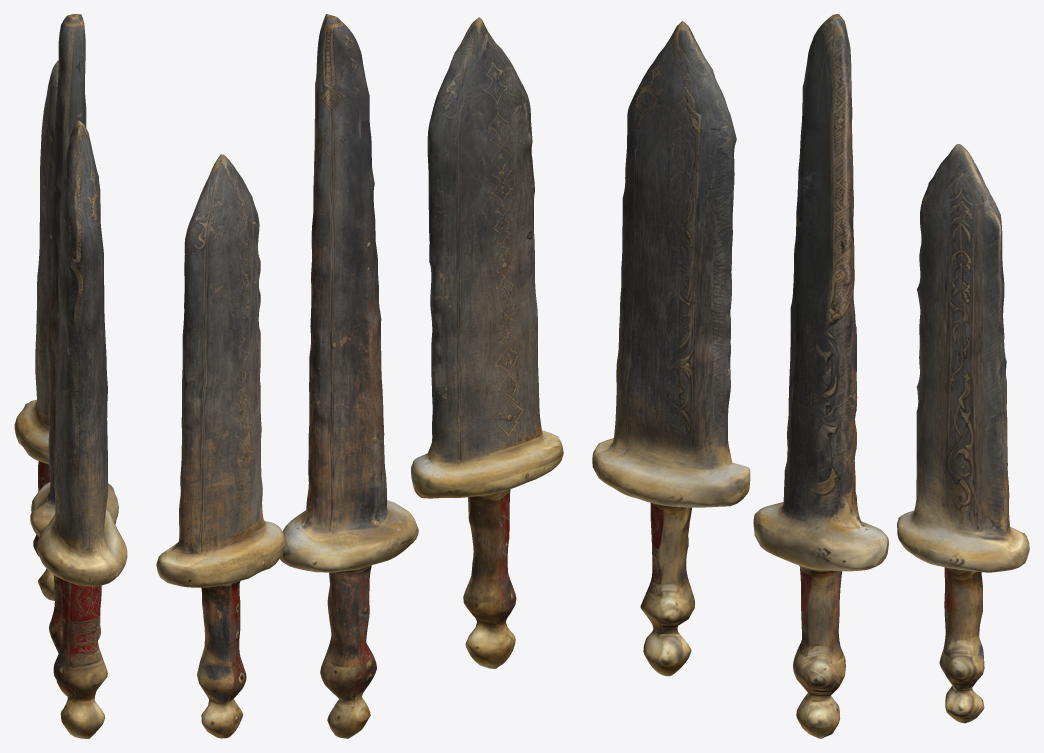
The model's file is swords2.obj.
The picture shows the model from 3 angles, left to right: view 1: azimuth 30°, elevation 25°; view 2: azimuth 150°, elevation 25°; view 3: azimuth 270°, elevation 25°; orthographic projection. The views are drawn at different scales.
Parts seen in each view (by area): view 1: Mesh_0; view 2: Mesh_0; view 3: Mesh_0.
Boxes of the visible parts, x1,y1,x2,y2 form: Mesh_0: (14, 14, 127, 738); Mesh_0: (156, 14, 563, 738); Mesh_0: (592, 14, 1029, 738).
Size of the model in its own units: 0.3749 by 1.2 by 0.656.
Materials: 1 (1 with a texture image).
